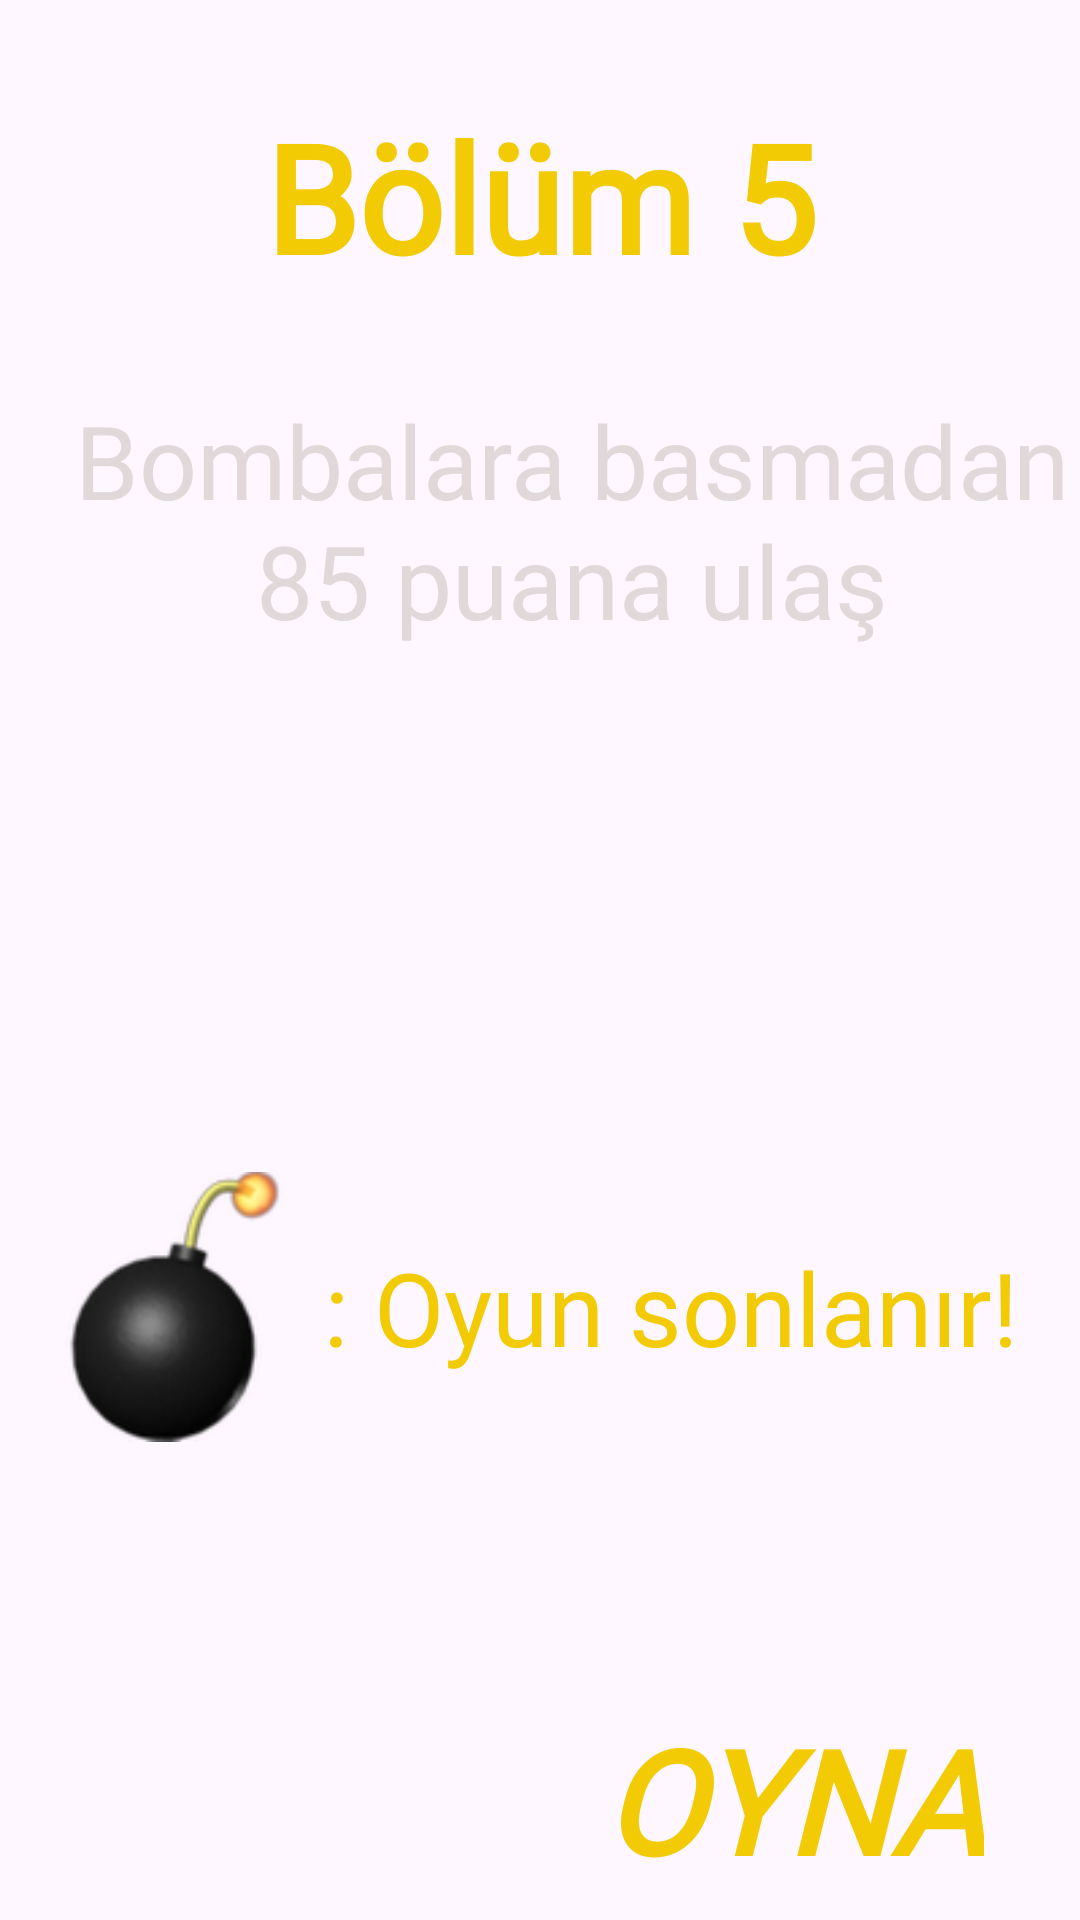

Screen size 1080 x 1920. Icon name, then its center in pixels as (x=x, y=y):
bomb: (x=174, y=1307)
